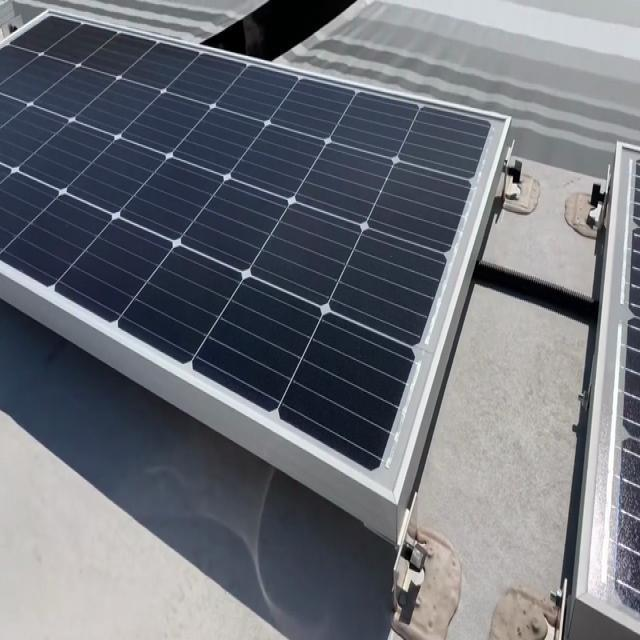Normal Solar Panel: (0, 7, 512, 504), (580, 144, 640, 640)
